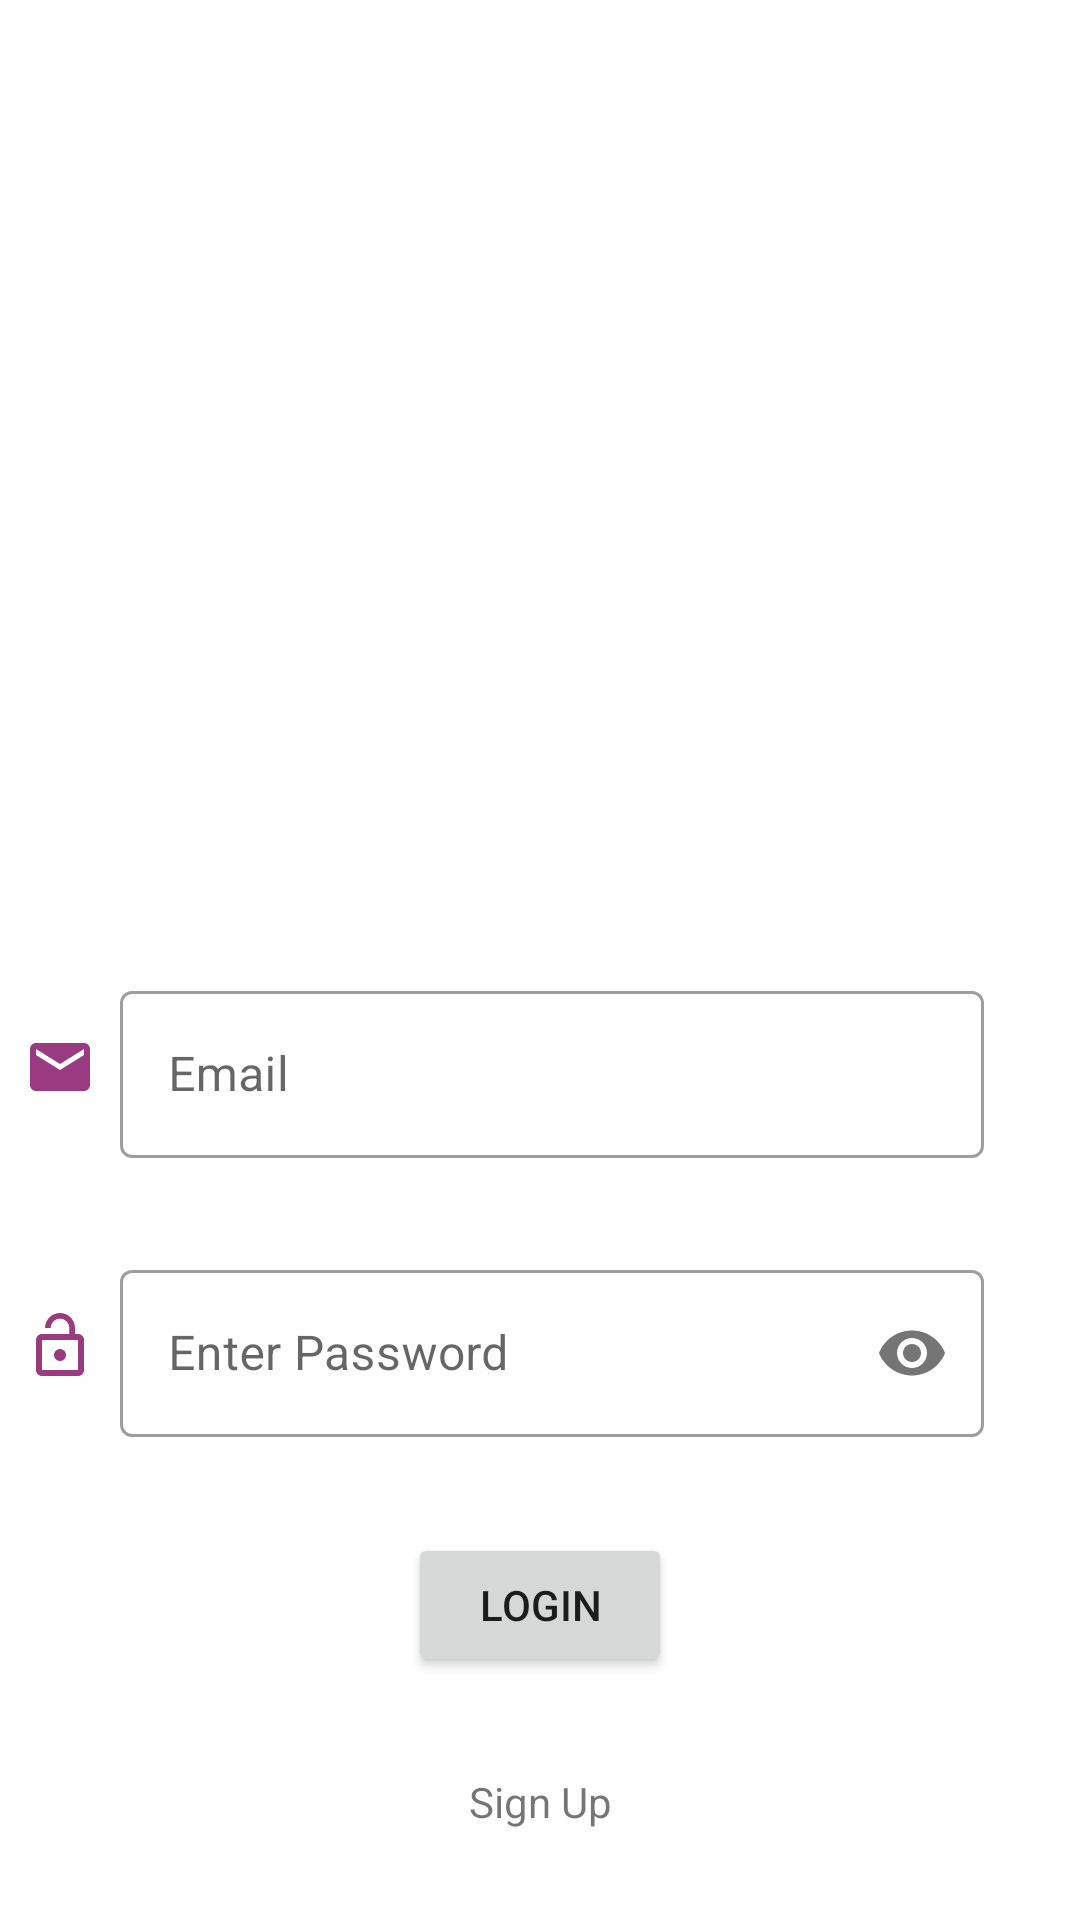

Screen size 1080w x 1920h. Icon name, then its box in pixels as {"x1": x1, "y1": y1, "x2": x2, "y2": y2}:
lock open: {"x1": 36, "y1": 1313, "x2": 84, "y2": 1376}
